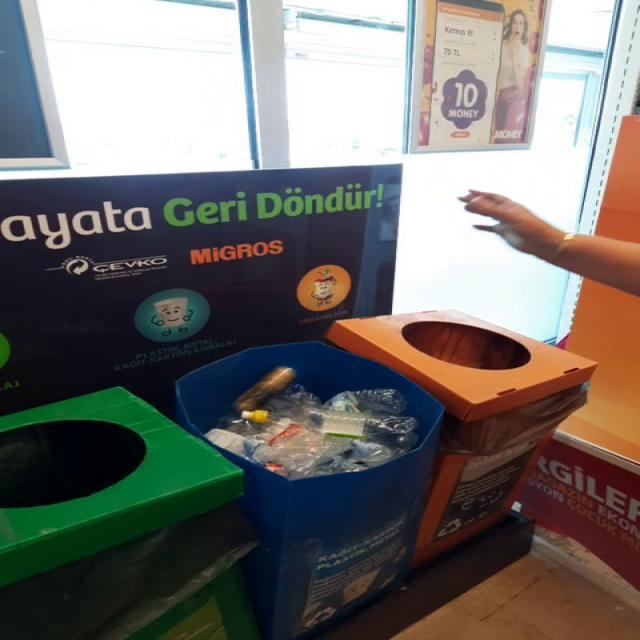Metal: (233, 367, 297, 412)
